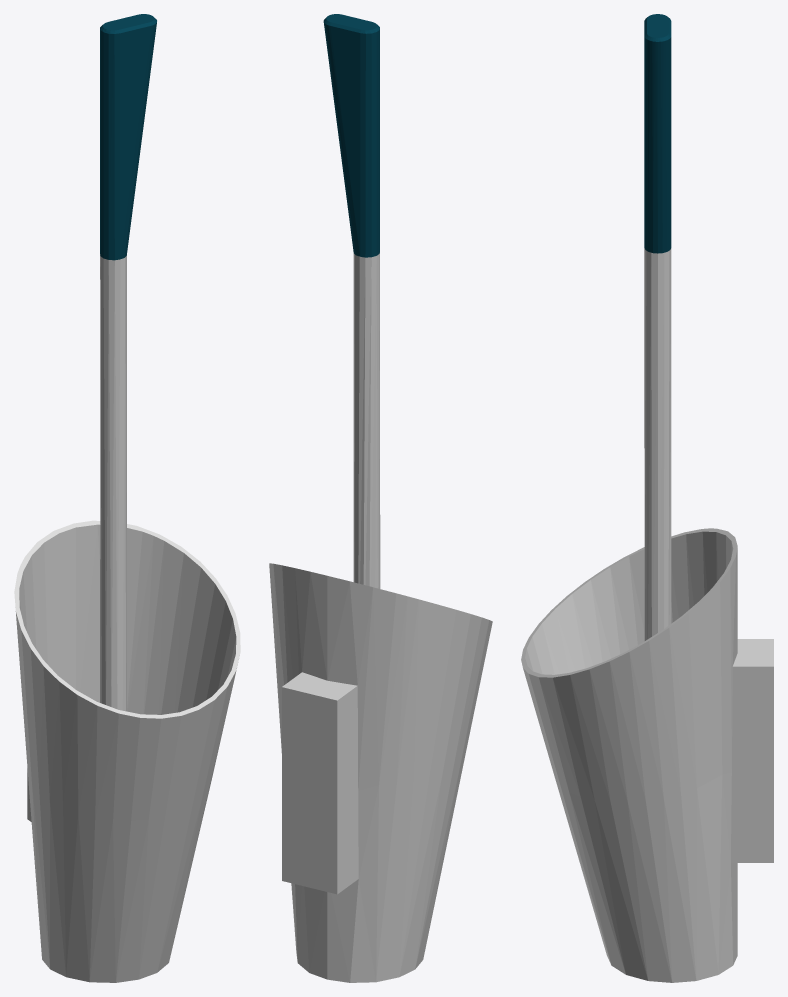
The model's file is łazienka szczotka toaletowa.fbx.
3 views of the same model, side by side, from view 1: azimuth 30°, elevation 25°; view 2: azimuth 150°, elevation 25°; view 3: azimuth 270°, elevation 25° (orthographic).
Parts seen in each view (by area): view 1: łazienka szczotka toaletowa, 1:1:6; view 2: łazienka szczotka toaletowa, 1:1:6; view 3: łazienka szczotka toaletowa, 1:1:6.
Boxes of the visible parts, x1,y1,x2,y2 form: łazienka szczotka toaletowa: [14, 520, 240, 982]; 1:1:6: [100, 14, 156, 711]; łazienka szczotka toaletowa: [269, 563, 492, 982]; 1:1:6: [323, 14, 380, 588]; łazienka szczotka toaletowa: [521, 528, 773, 982]; 1:1:6: [644, 14, 671, 640].
Size of the model in its own units: 12.76 by 57.25 by 14.
